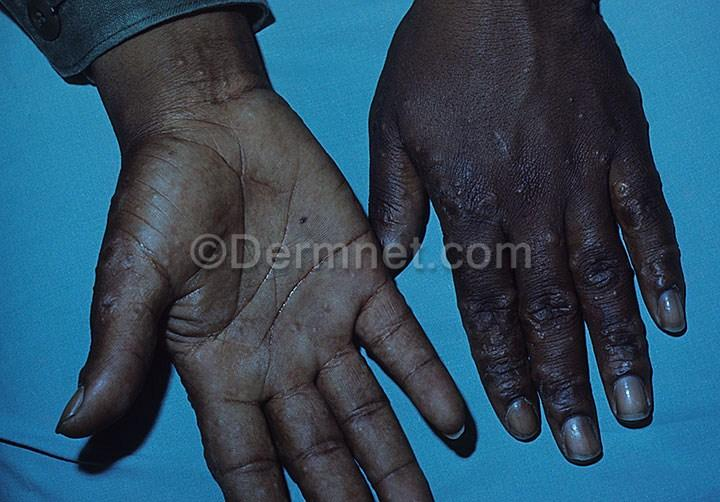Eczema: (442, 129, 512, 223), (164, 25, 245, 97), (191, 294, 244, 387), (563, 87, 621, 168), (289, 194, 351, 269), (524, 225, 570, 307), (625, 165, 677, 236), (538, 313, 579, 402), (324, 348, 376, 416), (574, 213, 619, 289), (463, 255, 510, 326), (99, 238, 138, 307), (639, 235, 682, 282), (607, 306, 640, 360), (294, 380, 320, 446), (487, 338, 520, 388)
